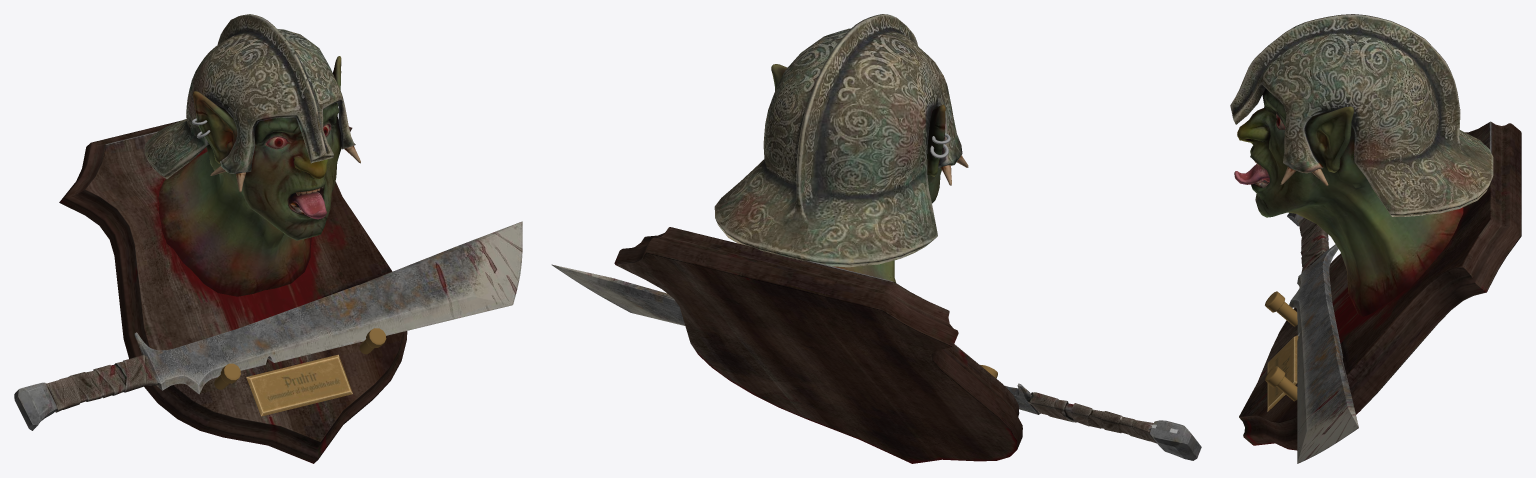
Rendered from cabeza_monstruo.glb.
3 renders of one model, left to right at view 1: azimuth 30°, elevation 25°; view 2: azimuth 150°, elevation 25°; view 3: azimuth 270°, elevation 25°, orthographic. The views are drawn at different scales.
Visible parts, largest first — view 1: cabeza_monstruo; view 2: cabeza_monstruo; view 3: cabeza_monstruo.
Boxes of the visible parts, box(x1,y1,x2,y2) form: cabeza_monstruo: box(14, 14, 522, 463); cabeza_monstruo: box(551, 14, 1201, 463); cabeza_monstruo: box(1230, 14, 1521, 463).
Size of the model in its own units: 0.36 by 0.2675 by 0.1639.
Materials: 2 (2 with a texture image).
